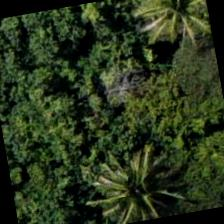Kelapa_Sawit: (94, 139, 196, 223), (127, 0, 215, 59)
